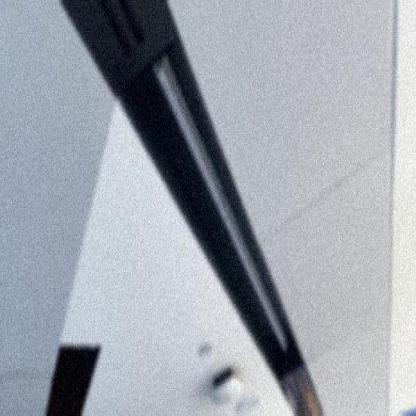light_off: (147, 54, 295, 360)
